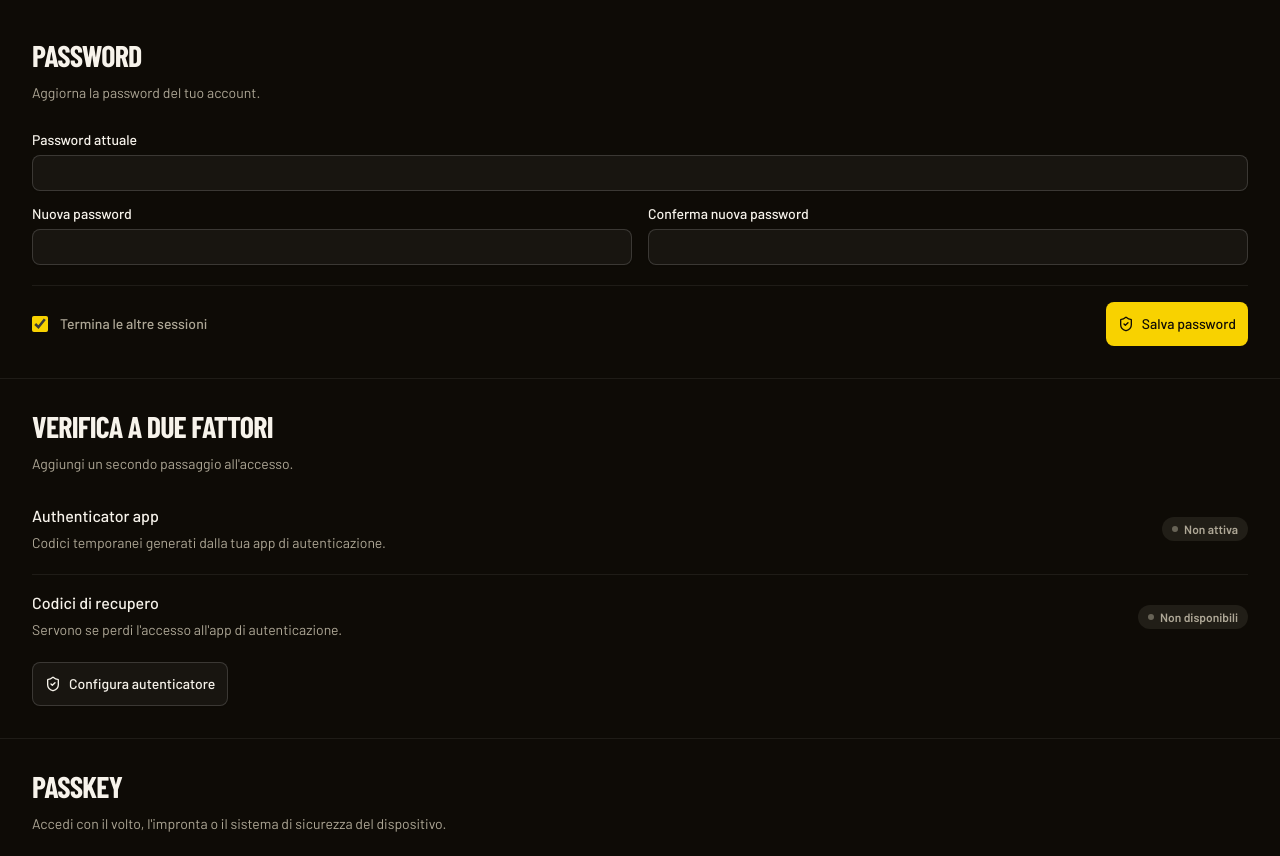
SecuritySection › validates confirmation before updating the password
In the password field labelled "Password attuale": (640, 173) 32,155 -> 1248,191, type "old-password"
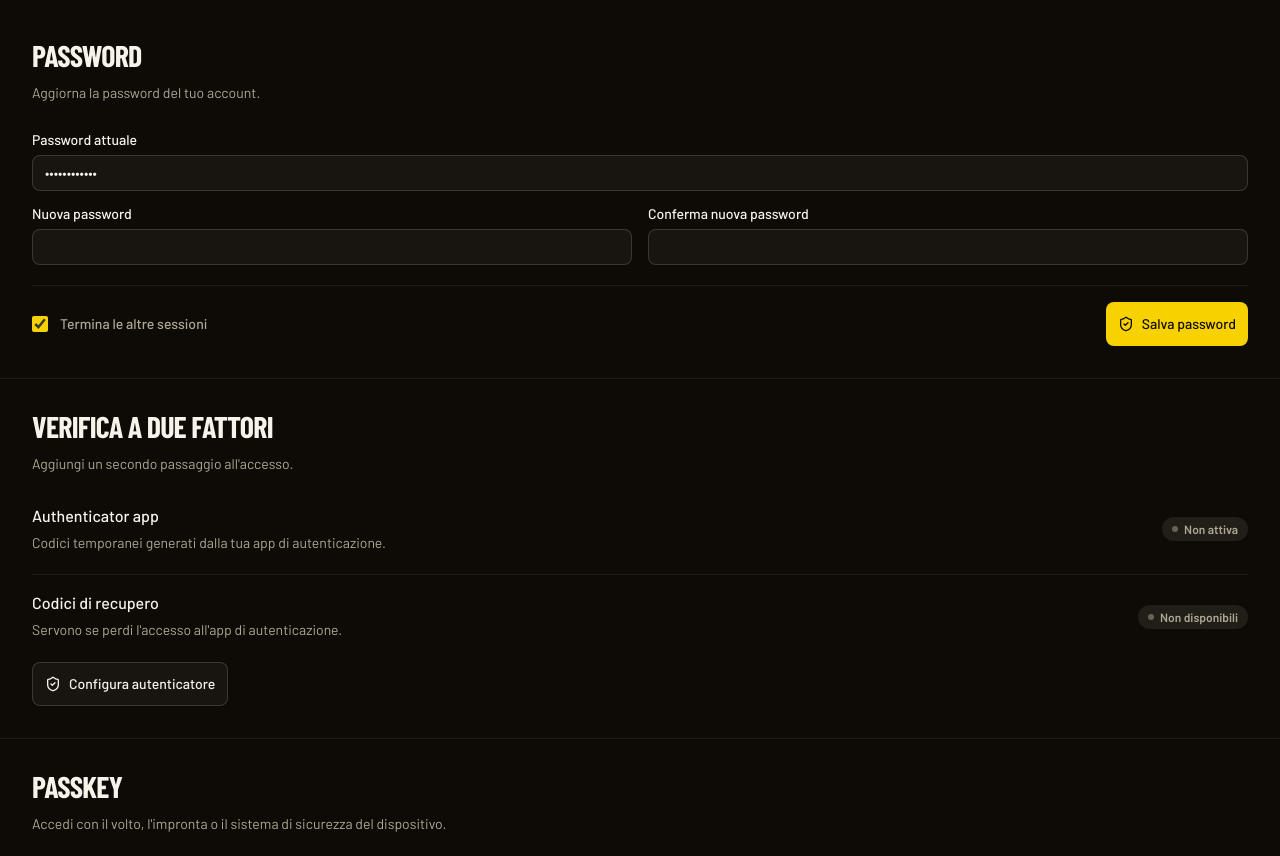
In the password field labelled "Nuova password": (332, 247) 32,229 -> 632,265, type "new-password"
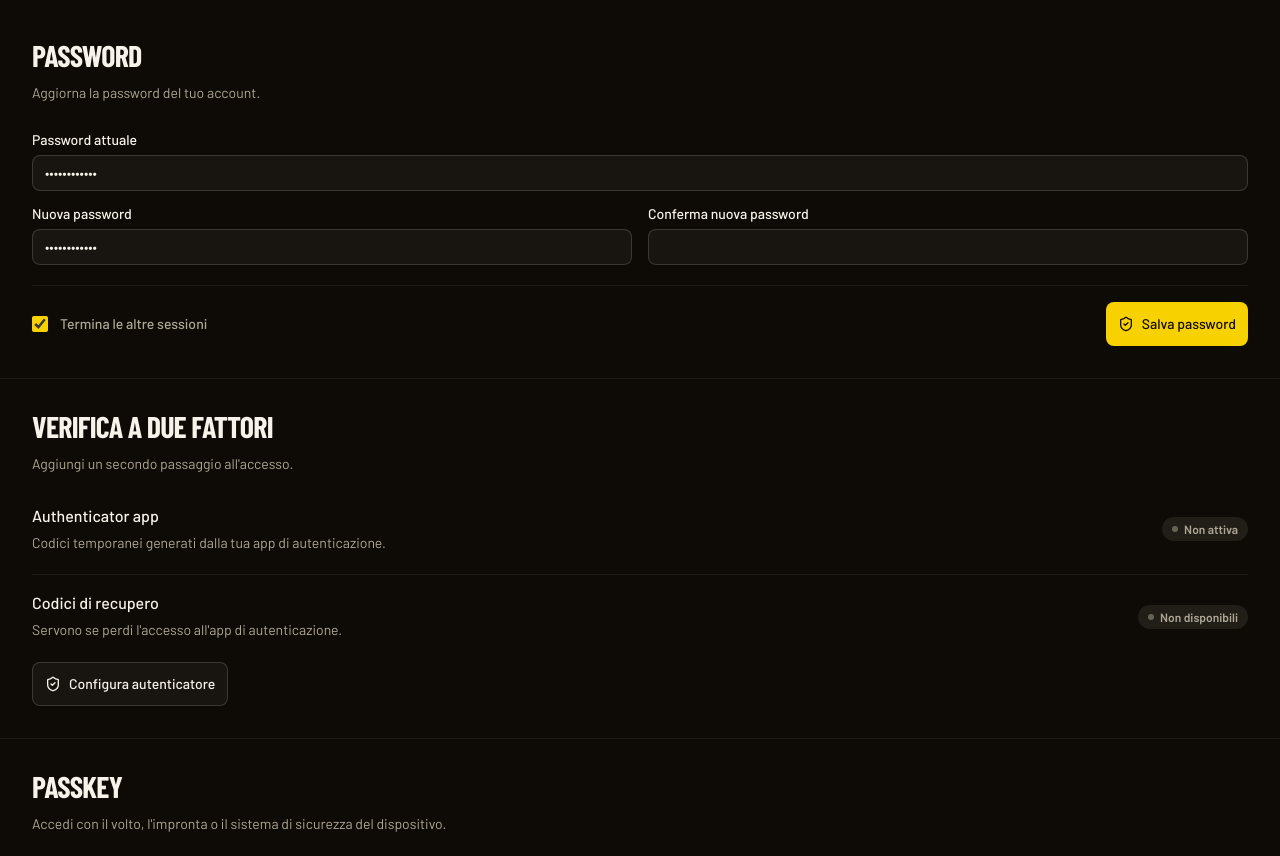
In the password field labelled "Conferma nuova password": (948, 247) 648,229 -> 1248,265, type "different-password"
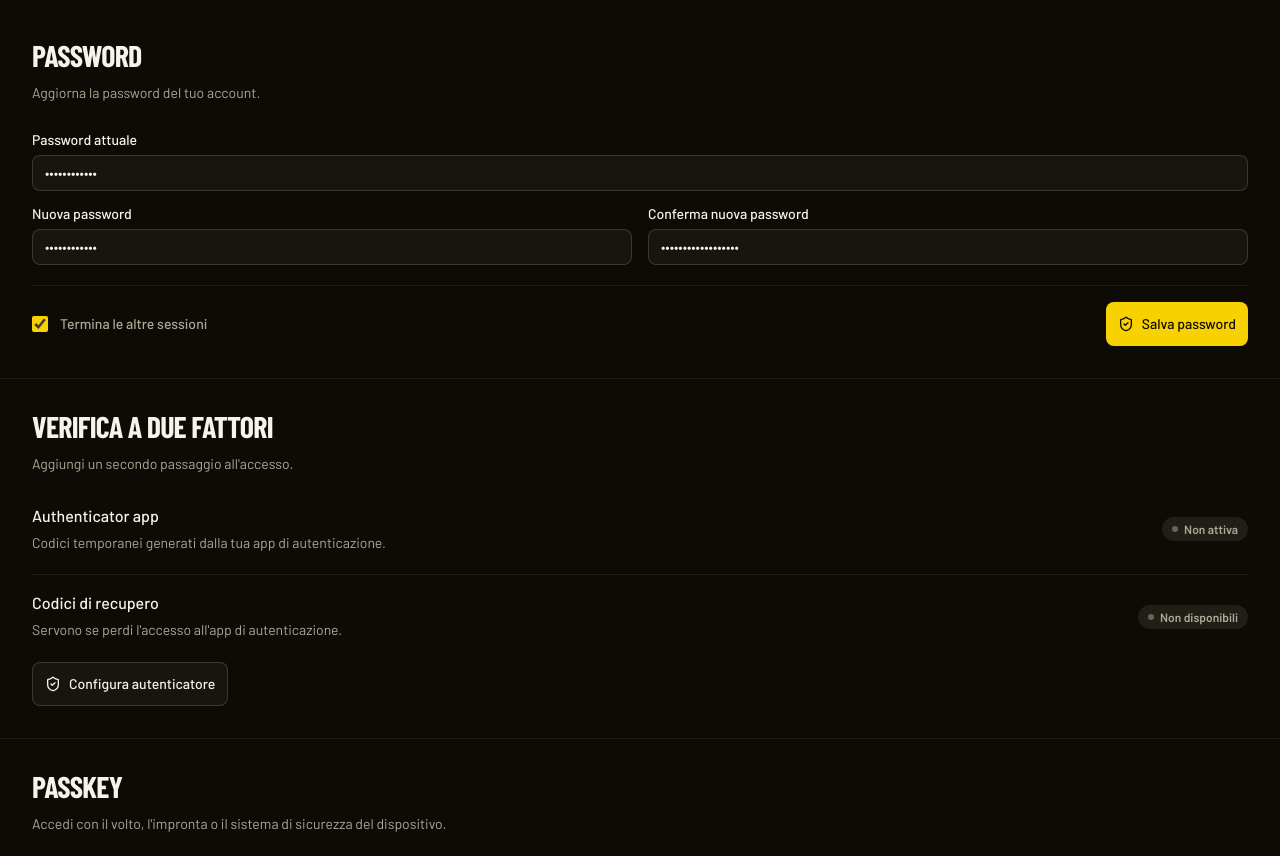
Click the button "Salva password": (1177, 324) 1106,302 -> 1248,346
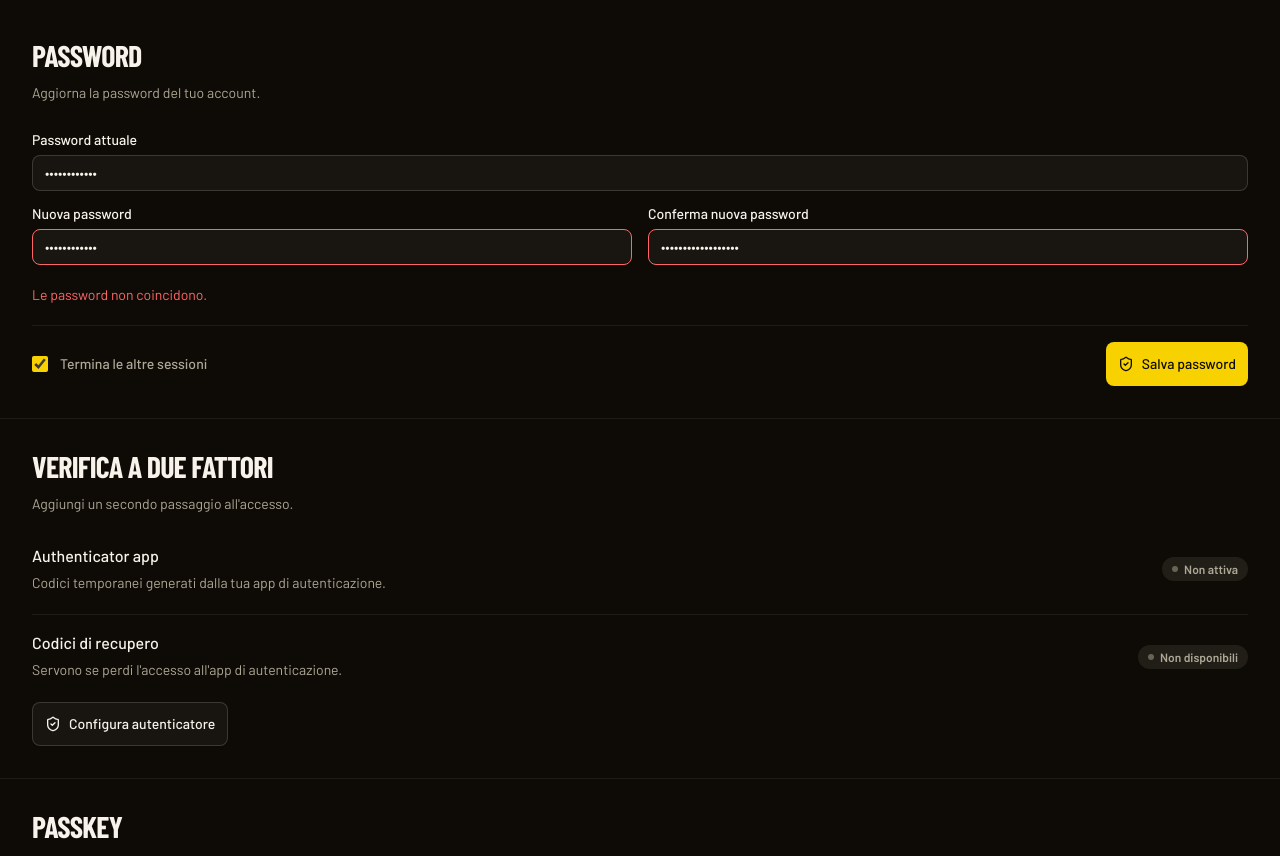
expect the text "Le password non coincidono." is shown: met, box 32,286 -> 207,303
